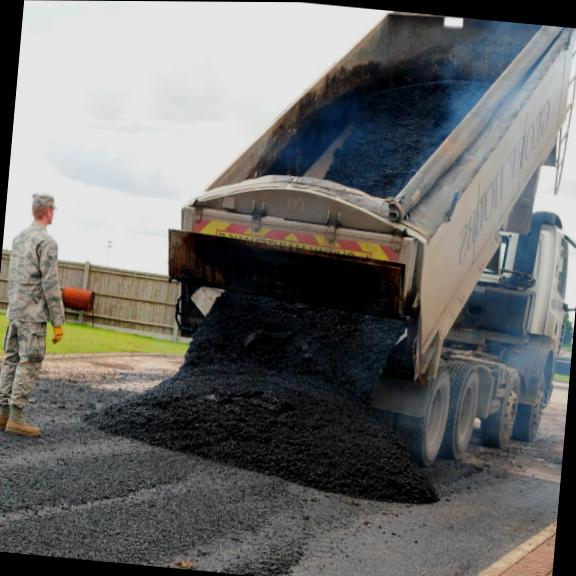no_safety_vest: (3, 224, 62, 322)
